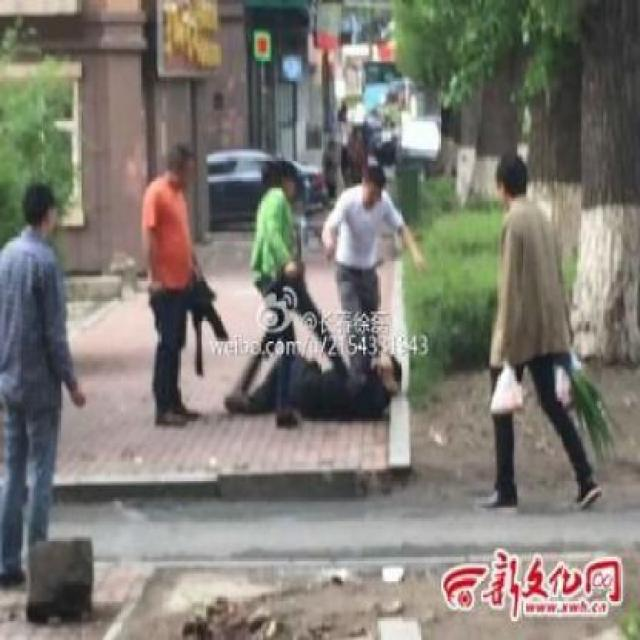fall: (210, 328, 412, 427)
